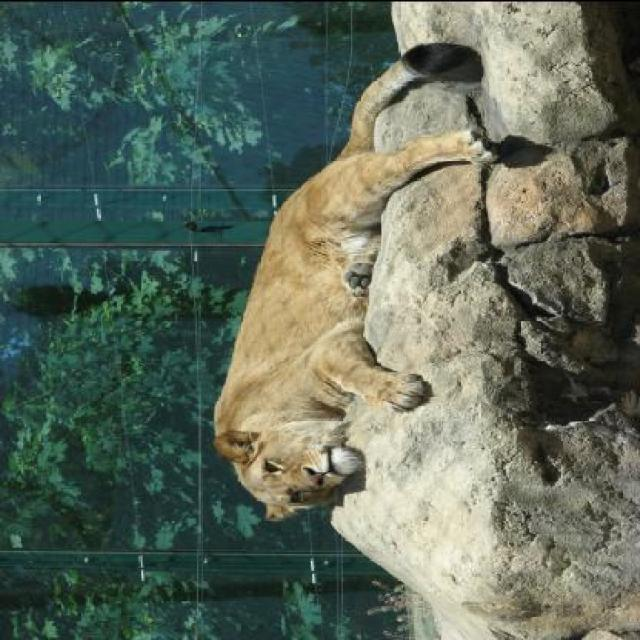Lion: (198, 32, 518, 525)
